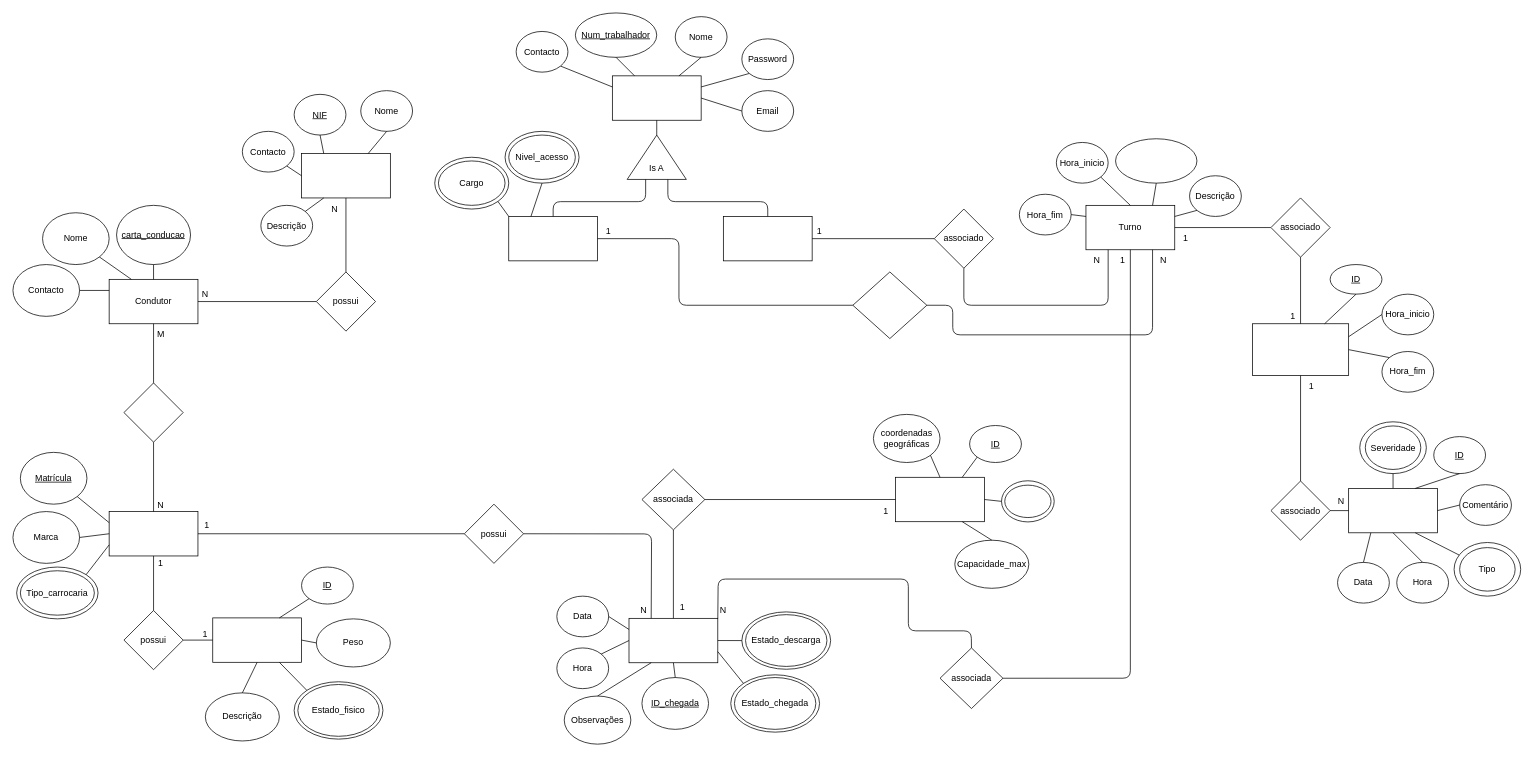
This 1534x758 diagram has some shape labels left out. The centre of each missing label's shape, as x and y in pixels:
"Alerta" goes at [1392,510].
"Cais" goes at [939,499].
"Camião" goes at [153,533].
"Carga" goes at [257,639].
"Chegadas_Diárias" goes at [673,640].
"conduzido" goes at [153,412].
"Empresa" goes at [345,175].
"Estado" goes at [1027,501].
"Gestor" goes at [553,238].
"Historico_Ocorrências" goes at [1300,349].
"ID_turno" goes at [1156,160].
"Operador" goes at [767,238].
"responsavel po" goes at [889,305].
"Trabalhador_Porto" goes at [656,97].
